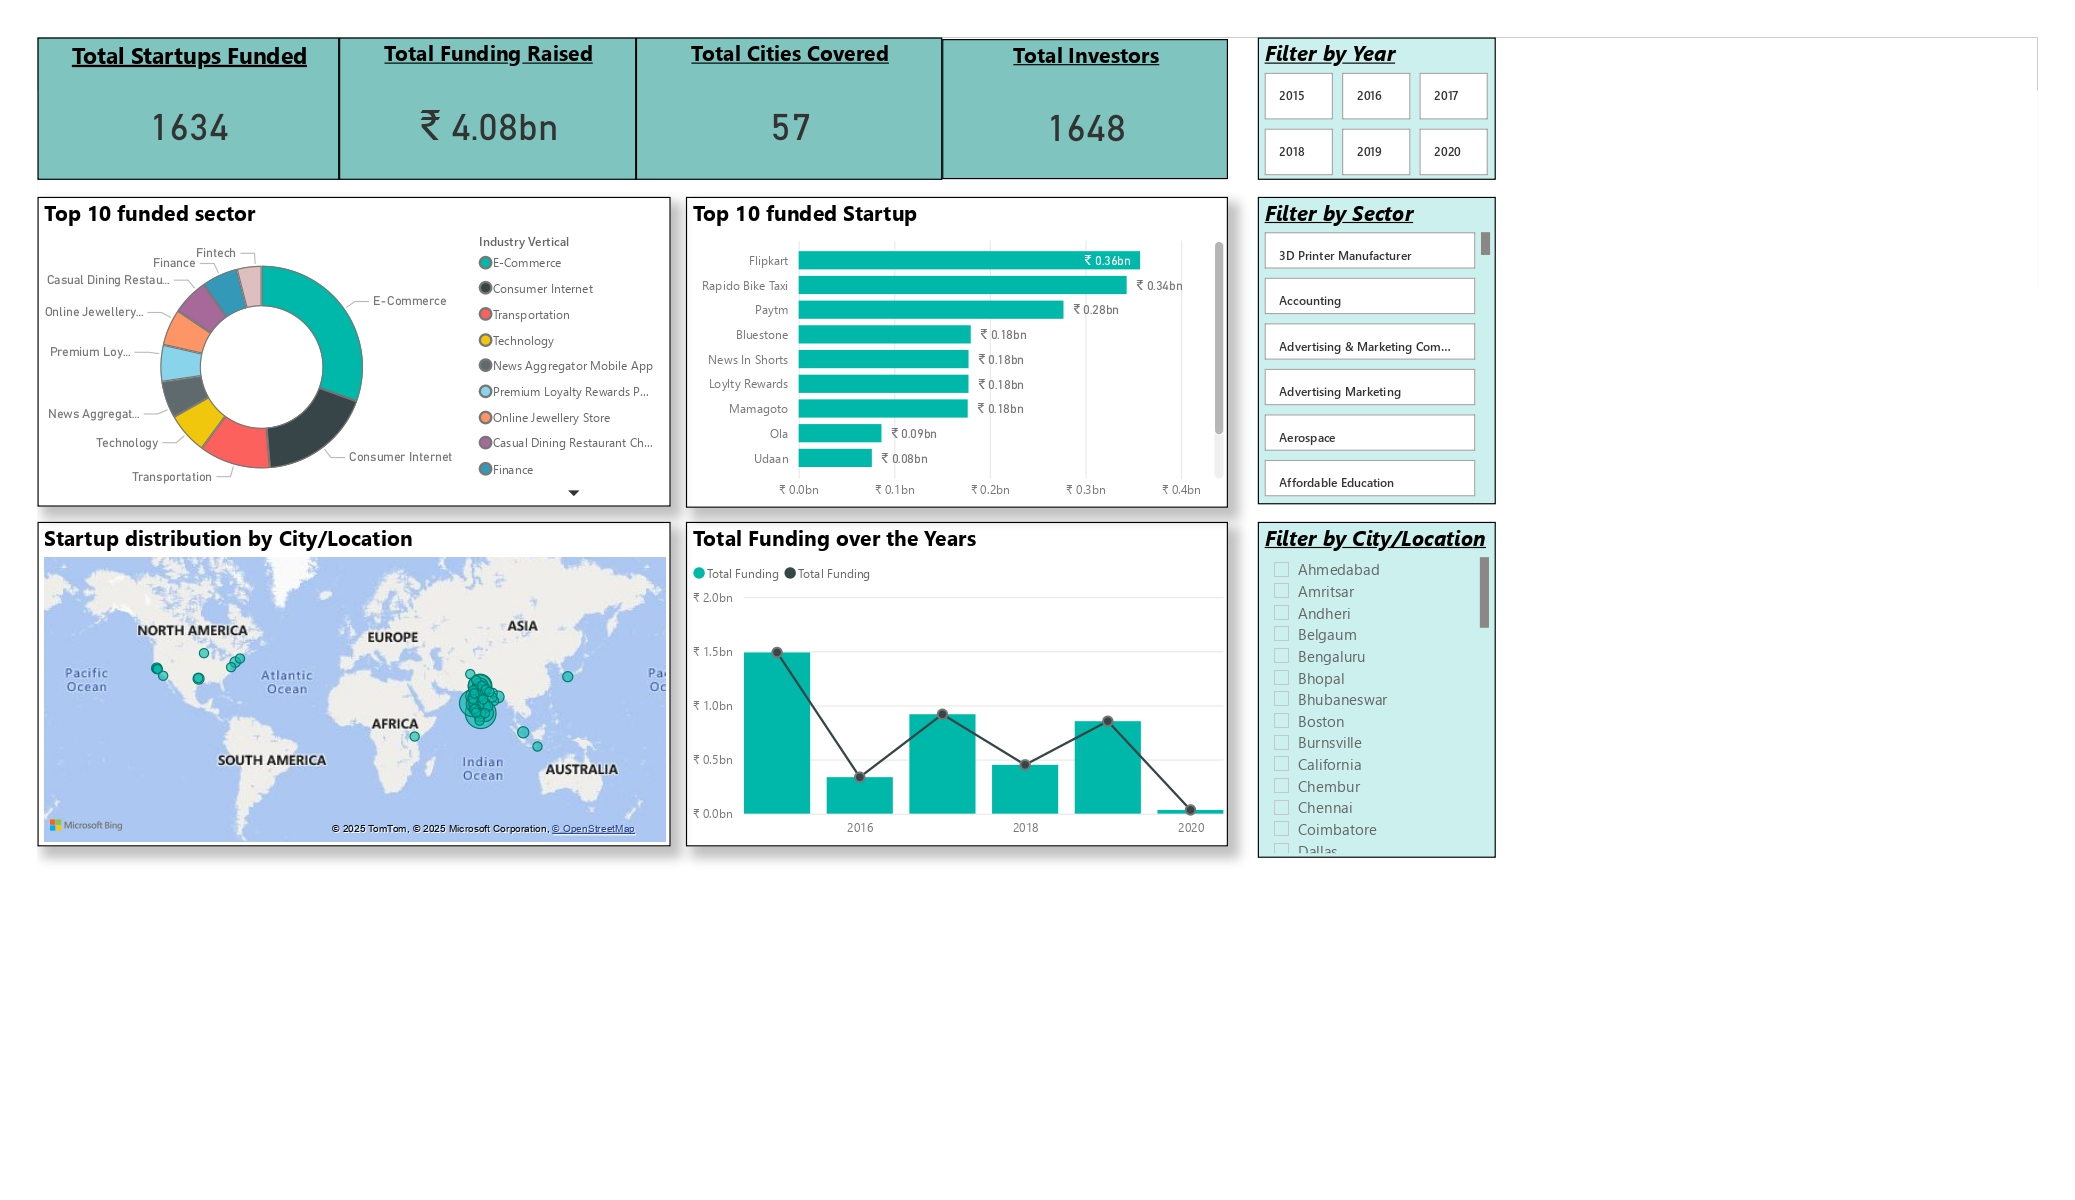

This screenshot's page, from the dashboard's own definition file:
{"tool":"powerbi","page":{"name":"Page 1","canvas":[1280,720],"ordinal":1},"visuals":[{"type":"card","title":"Total Funding Raised","fields":{"Values":["startup.Total Funding"]},"box":[264.8,0,260.7,124.9],"z":0},{"type":"card","title":"Total Startups Funded","fields":{"Values":["startup.Startup Count"]},"box":[0,0,264.8,124.9],"z":1000},{"type":"card","title":"Total Investors","fields":{"Values":["startup.Total Investors"]},"box":[794.5,1.4,251.1,123.5],"z":2000},{"type":"card","title":"Total Cities Covered","fields":{"Values":["Count(startup.City Location)"]},"box":[525.6,0,269,124.9],"z":3000},{"type":"donutChart","title":"Top 10 funded sector","fields":{"Y":["startup.Total Funding"],"Category":["startup.Industry Vertical"]},"box":[0,140,555.7,271.7],"z":4000},{"type":"map","title":"Startup distribution by City/Location","fields":{"Category":["startup.City Location"],"Size":["CountNonNull(startup.Startup Name)"]},"box":[0,425.4,555.7,285.4],"z":5000},{"type":"barChart","title":"Top 10 funded Startup","fields":{"Y":["startup.Total Funding"],"Category":["startup.Startup Name"]},"box":[569.5,140,476.2,273.1],"z":6000},{"type":"lineClusteredColumnComboChart","title":"Total Funding over the Years","fields":{"Y":["startup.Total Funding"],"Category":["startup.Date.Variation.Date Hierarchy.Year"],"Y2":["startup.Total Funding"]},"box":[569.5,425.4,476.2,285.4],"z":7000},{"type":"advancedSlicerVisual","title":"Filter by Year","fields":{"Values":["startup.Date.Variation.Date Hierarchy.Year"]},"box":[1071.7,0,208.6,124.9],"z":8000},{"type":"slicer","title":"Filter by City/Location","fields":{"Values":["startup.City Location"]},"box":[1071.7,425.4,208.6,295],"z":9000},{"type":"advancedSlicerVisual","title":"Filter by Sector","fields":{"Values":["startup.Industry Vertical"]},"box":[1071.7,140,208.6,270.3],"z":10000}]}

Visuals, with their boxes in screenshot pixels (x1, y1, x2, y2):
"Total Funding Raised" card: rect(451, 38, 859, 233)
"Total Startups Funded" card: rect(38, 38, 451, 233)
"Total Investors" card: rect(1279, 40, 1671, 233)
"Total Cities Covered" card: rect(859, 38, 1279, 233)
"Top 10 funded sector" donutChart: rect(38, 256, 906, 681)
"Startup distribution by City/Location" map: rect(38, 702, 906, 1148)
"Top 10 funded Startup" barChart: rect(927, 256, 1671, 683)
"Total Funding over the Years" lineClusteredColumnComboChart: rect(927, 702, 1671, 1148)
"Filter by Year" advancedSlicerVisual: rect(1712, 38, 2038, 233)
"Filter by City/Location" slicer: rect(1712, 702, 2038, 1162)
"Filter by Sector" advancedSlicerVisual: rect(1712, 256, 2038, 679)
